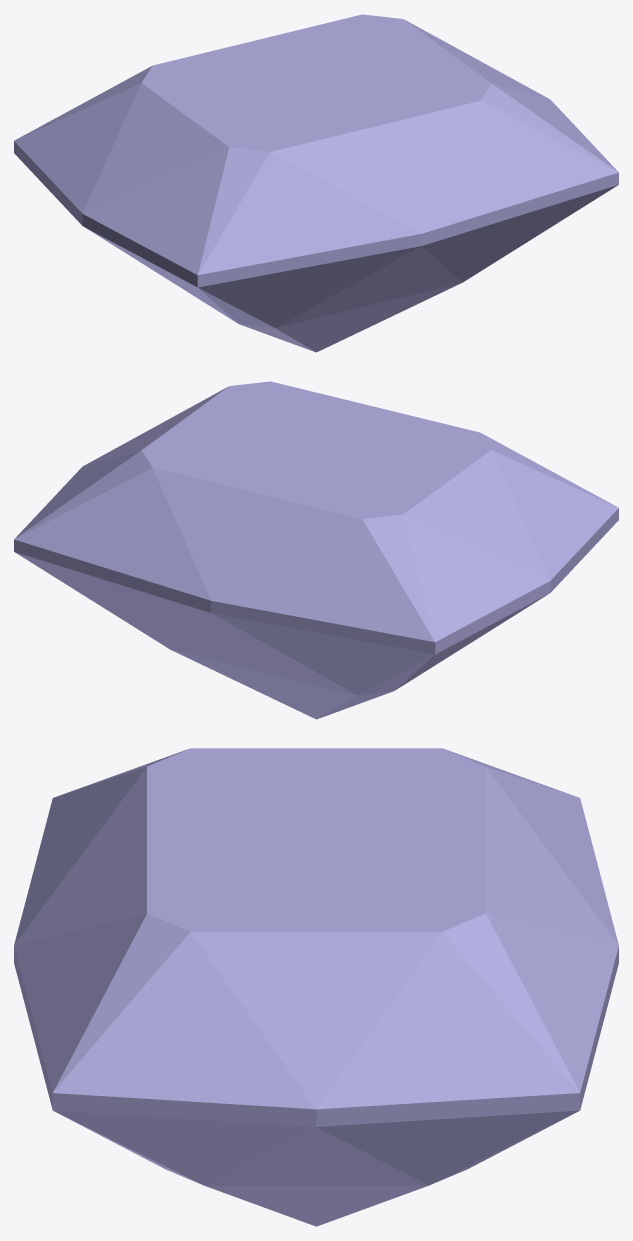
The model's file is tanzanite.glb.
3 views of the same model, one above another, from view 1: azimuth 30°, elevation 25°; view 2: azimuth 150°, elevation 25°; view 3: azimuth 270°, elevation 25° (orthographic). The views are drawn at different scales.
Parts seen in each view (by area): view 1: tanzanite; view 2: tanzanite; view 3: tanzanite.
Part boxes in pixels (x1=…): tanzanite: x1=14, y1=14, x2=618, y2=352; tanzanite: x1=14, y1=381, x2=618, y2=719; tanzanite: x1=14, y1=748, x2=618, y2=1226.
Bounding box in the file's own units: 0.25 × 0.1375 × 0.195.
